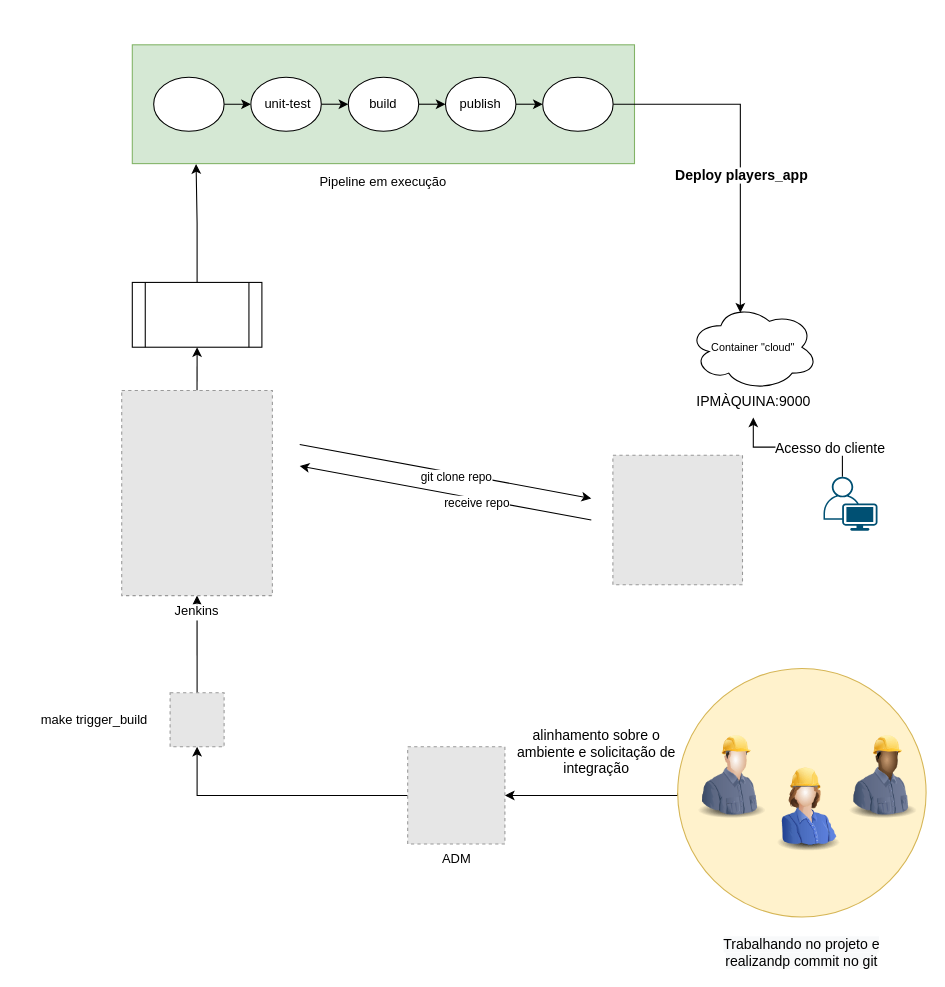
This 945x987 diagram has some shape labels left out. Grey dashed boxes stand in for pictures. Each missing label, with the centre of its shape:
"ansible_deploy" belongs at point 577,103.
"Cliente" belongs at point 850,503.
"git" belongs at point 188,103.
"Inicia processo de build" belongs at point 196,314.
